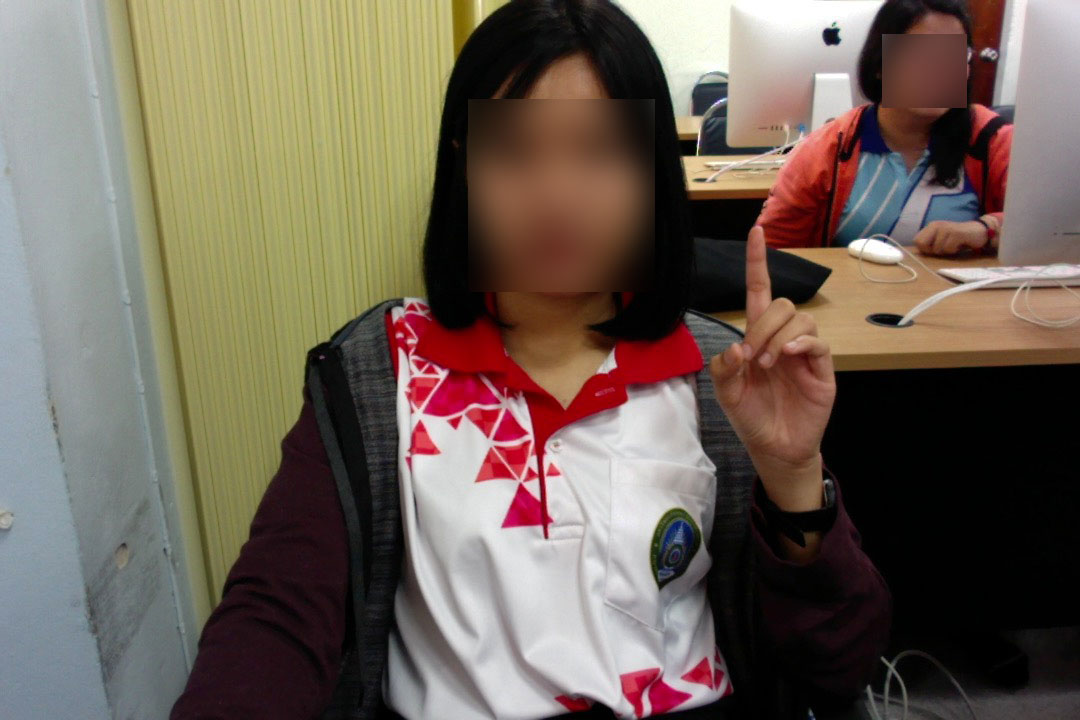dor: (706, 222, 842, 494)
